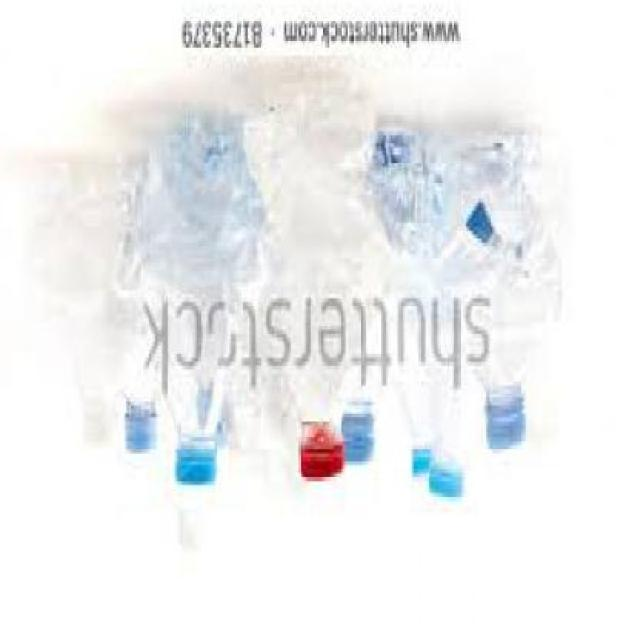PLASTIC: (245, 88, 370, 484), (141, 119, 264, 493), (450, 147, 562, 453), (372, 128, 554, 294), (110, 172, 168, 460), (63, 168, 119, 457), (158, 398, 233, 564), (388, 254, 438, 486), (429, 362, 478, 509), (266, 373, 311, 505), (234, 382, 274, 502), (489, 402, 529, 462), (176, 445, 222, 493), (303, 442, 349, 484), (342, 421, 376, 473), (183, 517, 217, 557), (127, 417, 161, 457), (432, 464, 466, 502), (86, 418, 114, 448), (415, 450, 436, 481)
